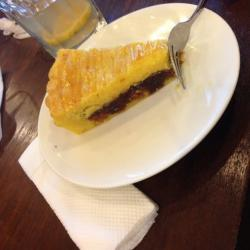apple_pie: (43, 37, 194, 138)
